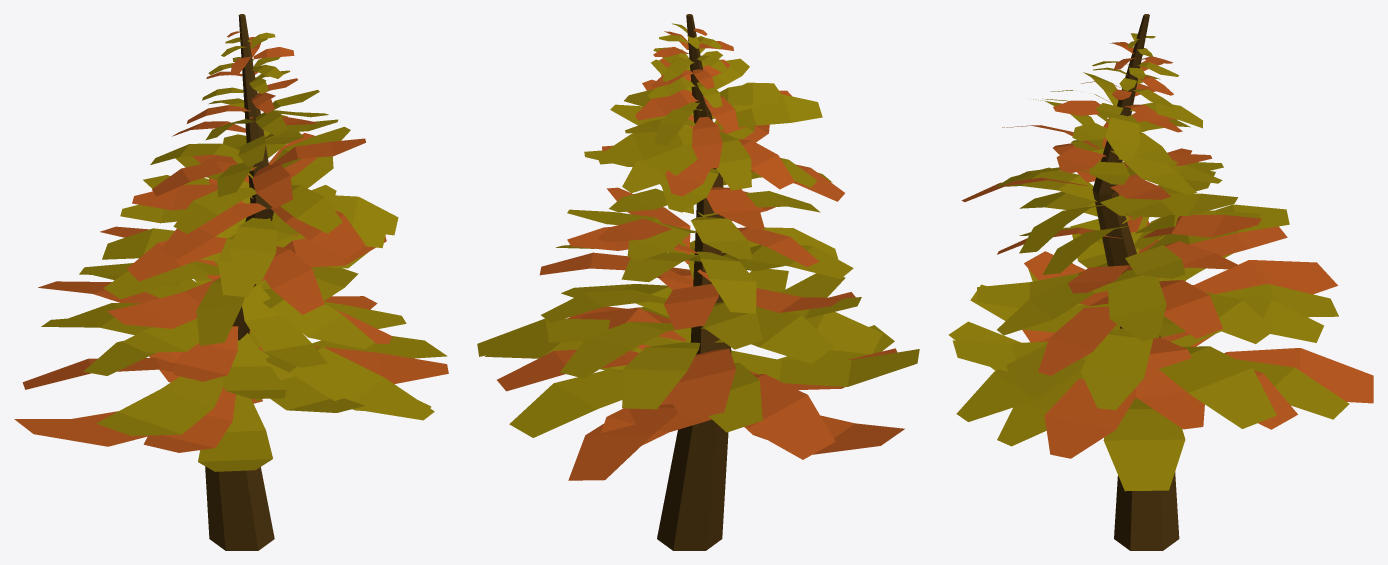
File: Tree4.fbx
3 views of the same model, side by side, from view 1: azimuth 30°, elevation 25°; view 2: azimuth 150°, elevation 25°; view 3: azimuth 270°, elevation 25° (orthographic).
Visible parts, largest first — view 1: Plane.003; view 2: Plane.003; view 3: Plane.003.
Part boxes in pixels (x1,y1,x2,y2): Plane.003: [14, 14, 448, 550]; Plane.003: [477, 14, 919, 550]; Plane.003: [948, 14, 1373, 550].
Size of the model in its own units: 11.52 by 14.16 by 10.42.
